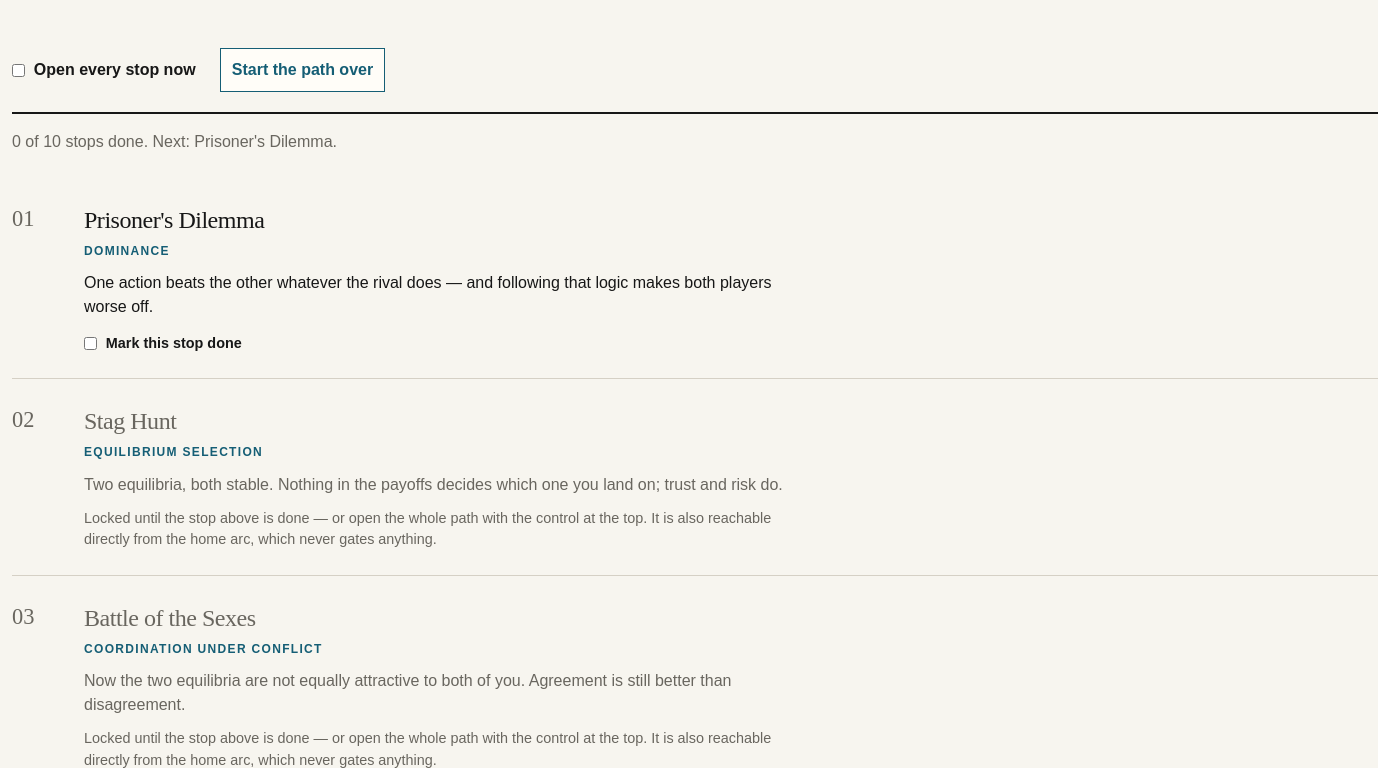
curriculum path surface › unlocks the next stop when one is marked done
Click the checkbox labelled "Mark this stop done".
click(90, 344)  # box [84, 337, 97, 350]
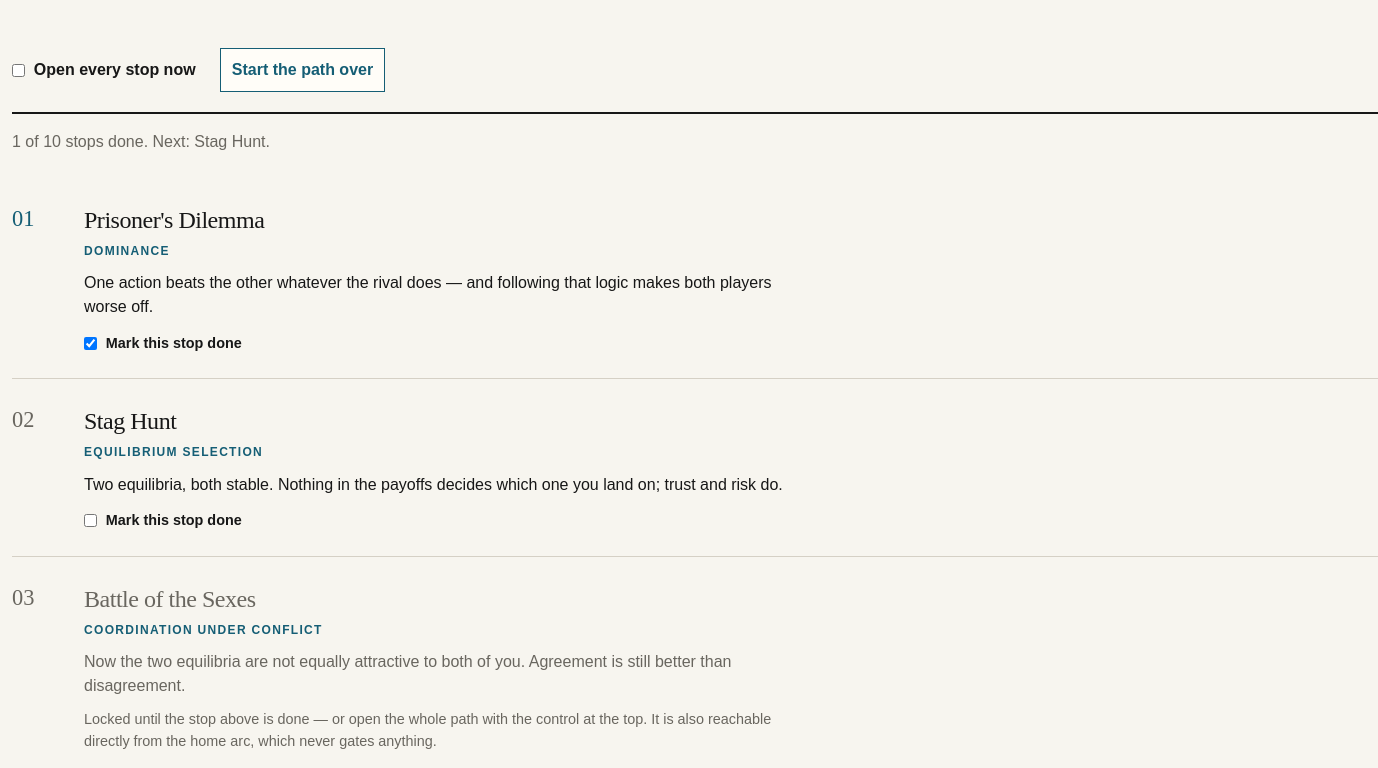
expect the link "Stag Hunt" is shown: met, box [84, 408, 176, 434]
